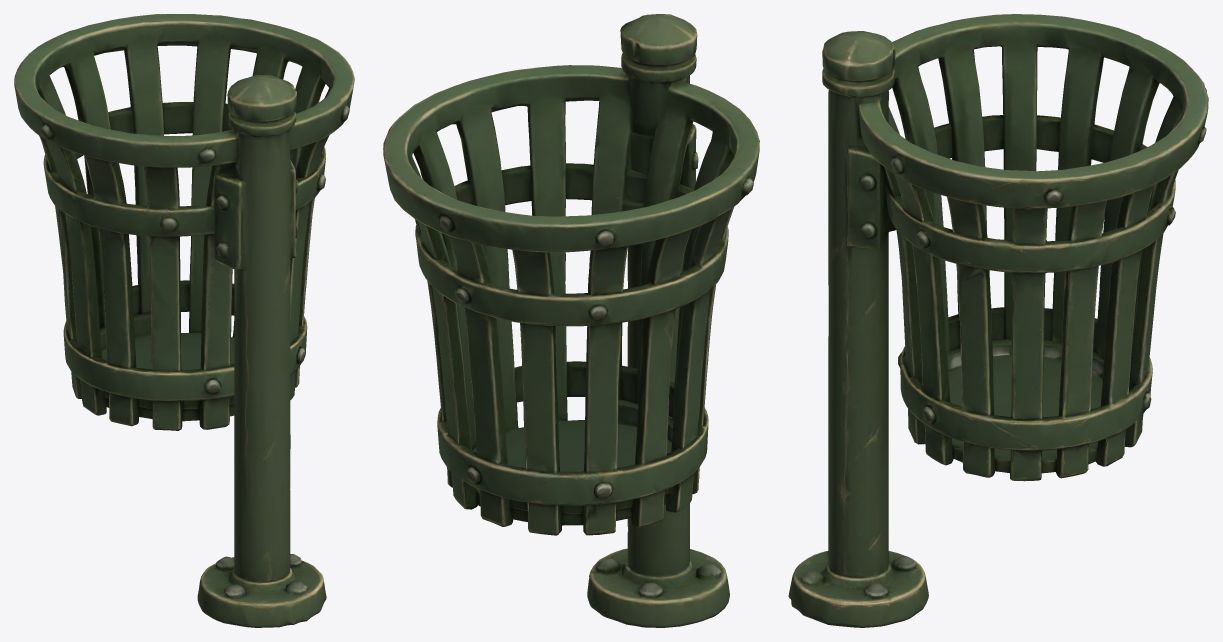
The model's file is cesto.glb.
3 views of the same model, side by side, from view 1: azimuth 30°, elevation 25°; view 2: azimuth 150°, elevation 25°; view 3: azimuth 270°, elevation 25° (orthographic). The views are drawn at different scales.
Parts seen in each view (by area): view 1: tripo_node_705a7fd8-c4bb-4c7c-828b-94d2f42ed154; view 2: tripo_node_705a7fd8-c4bb-4c7c-828b-94d2f42ed154; view 3: tripo_node_705a7fd8-c4bb-4c7c-828b-94d2f42ed154.
Part boxes in pixels (box(x1,y1,x2,y2)): tripo_node_705a7fd8-c4bb-4c7c-828b-94d2f42ed154: box(14, 14, 354, 627); tripo_node_705a7fd8-c4bb-4c7c-828b-94d2f42ed154: box(383, 14, 759, 627); tripo_node_705a7fd8-c4bb-4c7c-828b-94d2f42ed154: box(788, 14, 1208, 627).
Bounding box in the file's own units: 0.6066 × 1 × 0.6725.
1 material, 1 textured.
